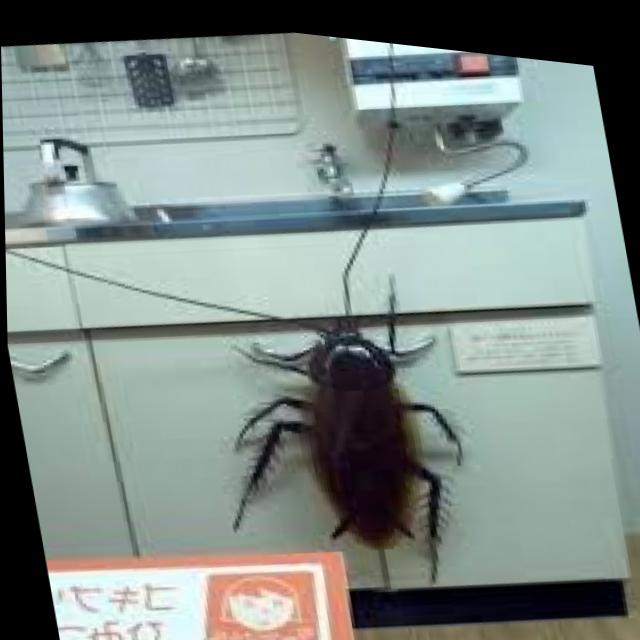Cockroach: (165, 102, 523, 640)
